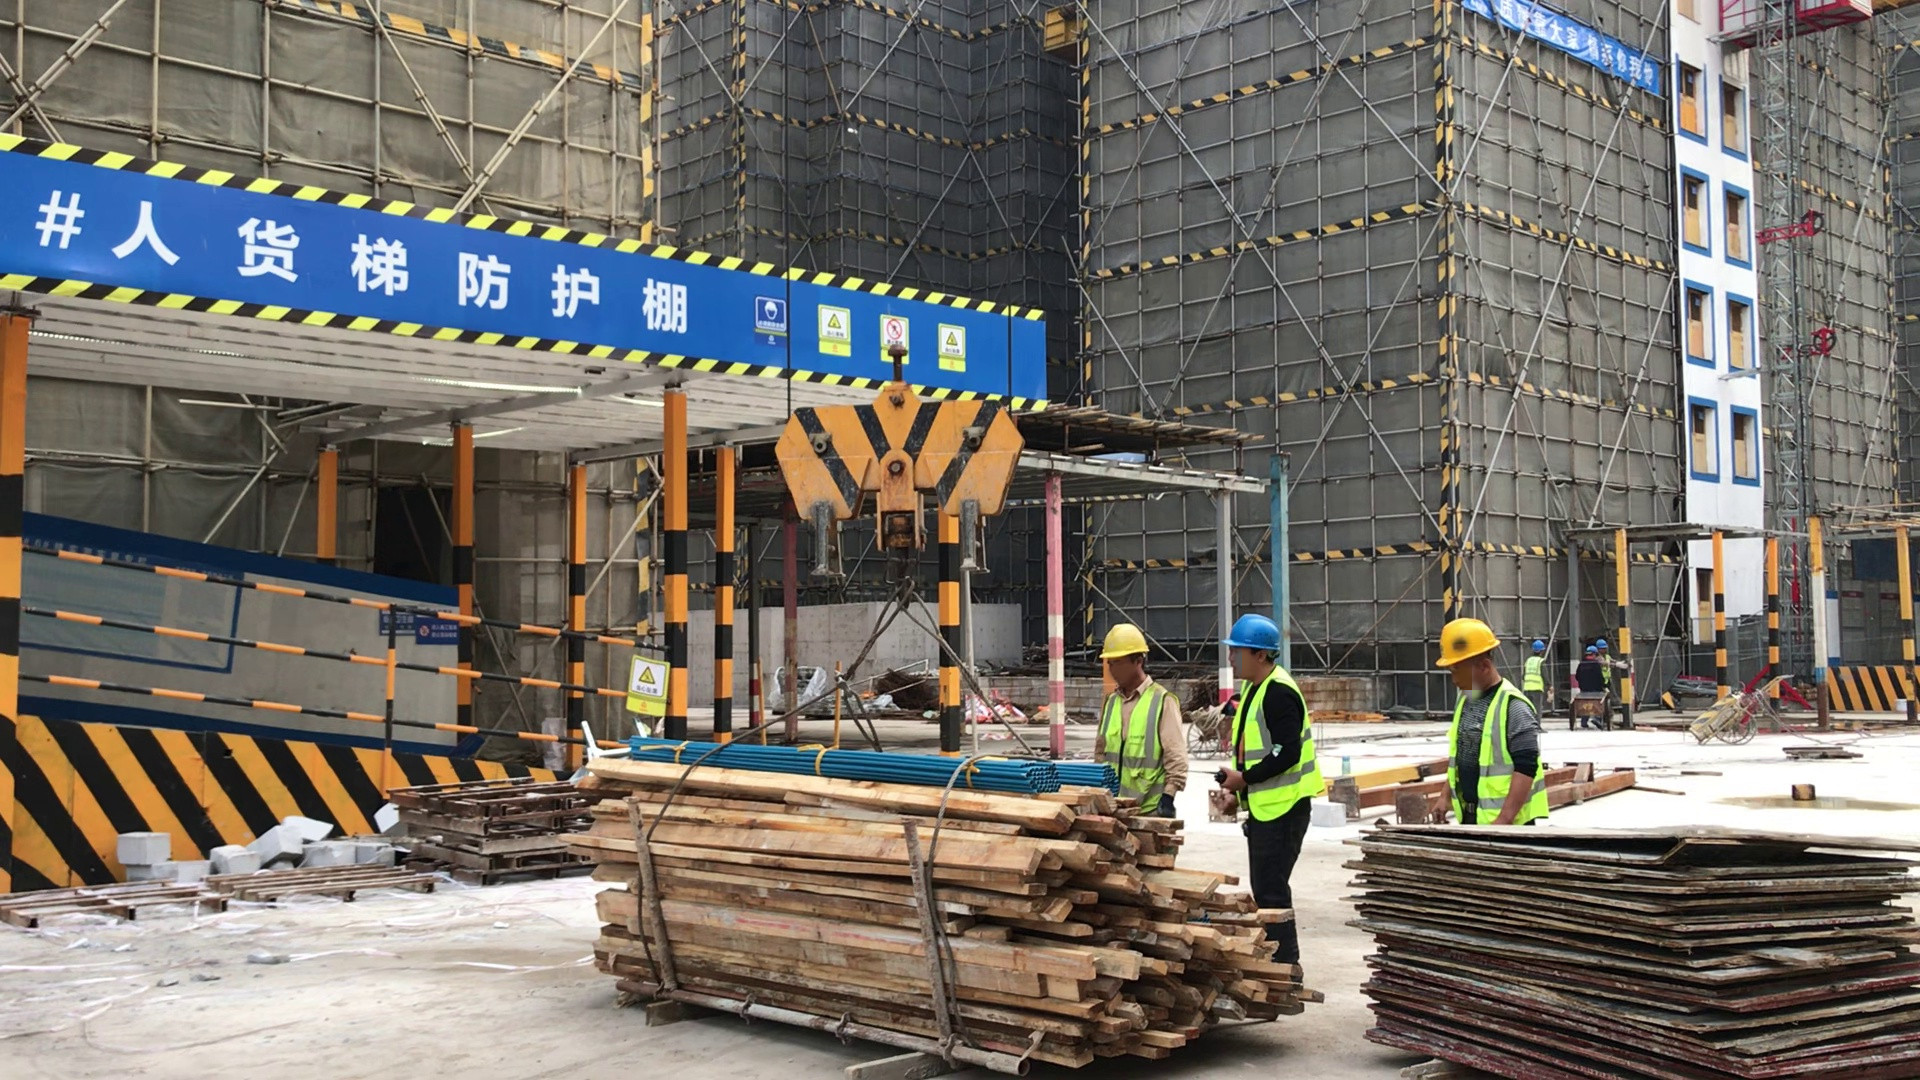board: (1337, 811, 1920, 1076)
handcart: (1680, 675, 1801, 745)
helmet: (1435, 618, 1499, 661), (1222, 612, 1283, 651), (1098, 622, 1149, 655), (1531, 639, 1544, 652), (1596, 639, 1607, 648), (1584, 647, 1597, 654)
hook: (775, 389, 1028, 558)
person: (1210, 612, 1319, 978), (1425, 611, 1552, 837), (1084, 622, 1192, 827), (1522, 638, 1552, 735), (1574, 645, 1603, 693), (1595, 638, 1617, 693)
slogan: (1455, 1, 1665, 102)
vest: (1453, 686, 1552, 827), (1234, 668, 1320, 819), (1099, 685, 1170, 811), (1522, 656, 1547, 693)
wood: (562, 754, 1325, 1080)
